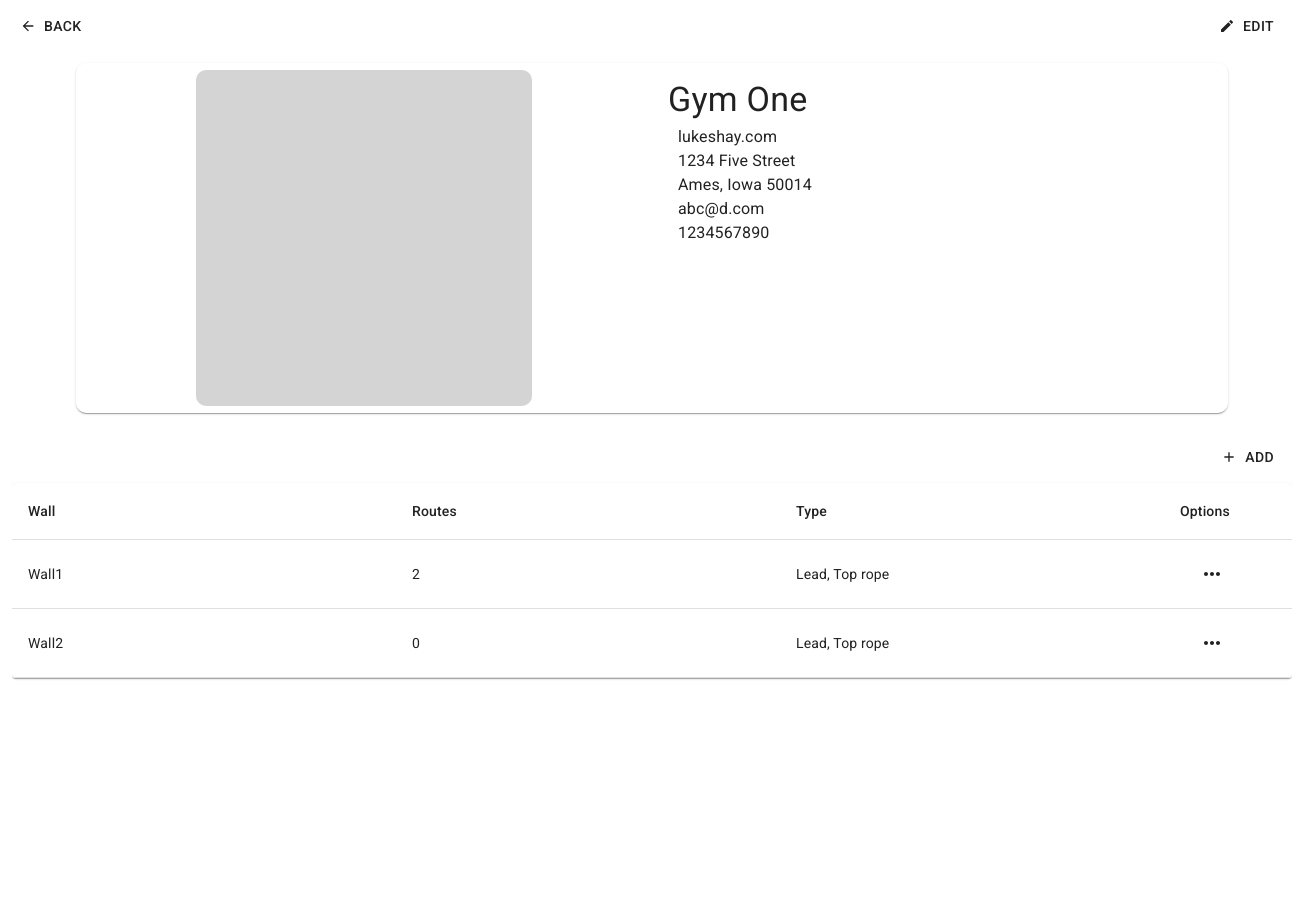
Scenario: GymPage › should render route list when clicking on a wall
What coordinates should you click on to do the following:
click the text "Wall1"
I would click on:
 (204, 574)
Its box is 12,540 -> 396,608.
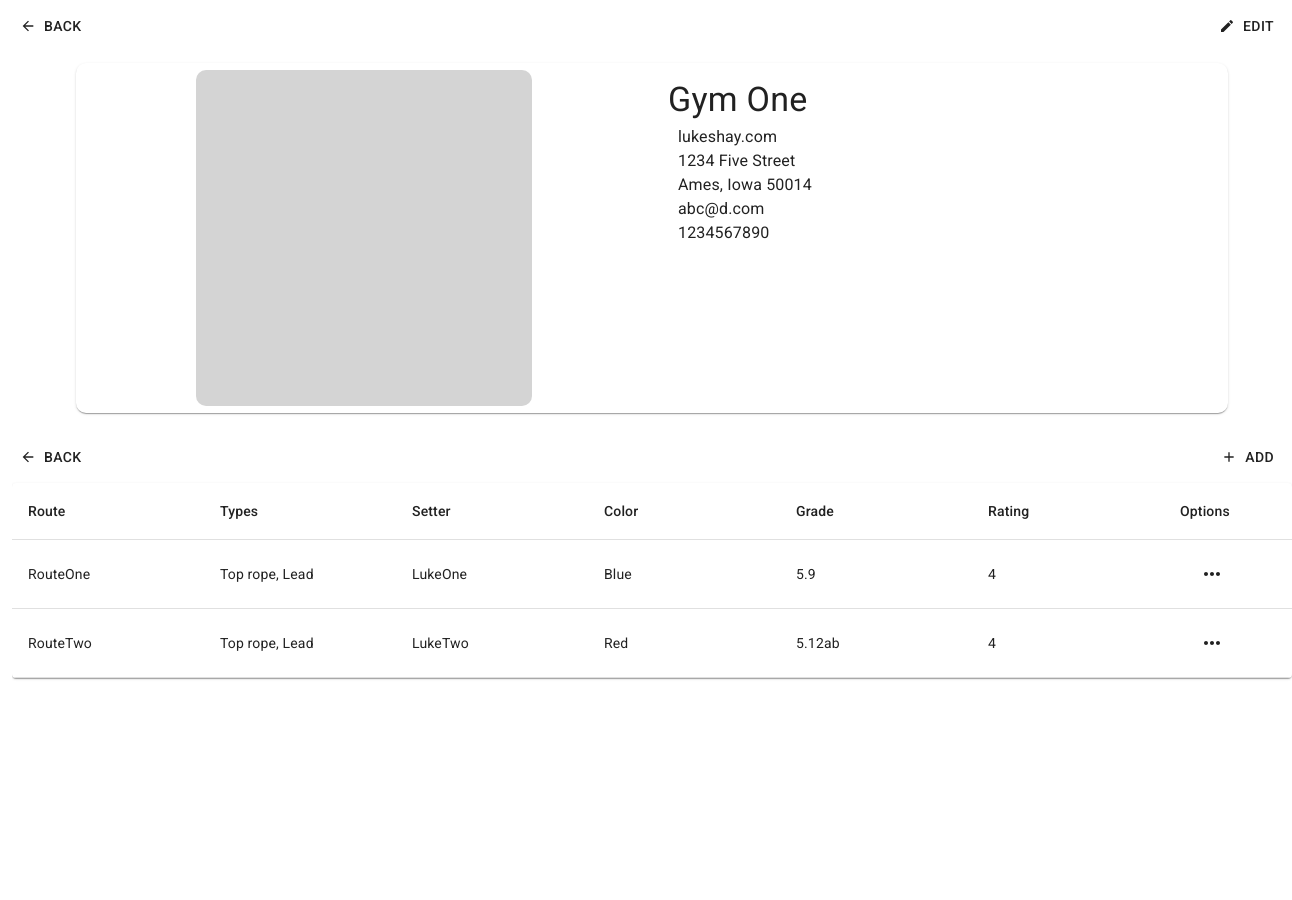
Expected: the text "Blue" is shown, 588,540 -> 780,608
Expected: the text "LukeOne" is shown, 396,540 -> 588,608
Expected: the text "RouteOne" is shown, 12,540 -> 204,608
